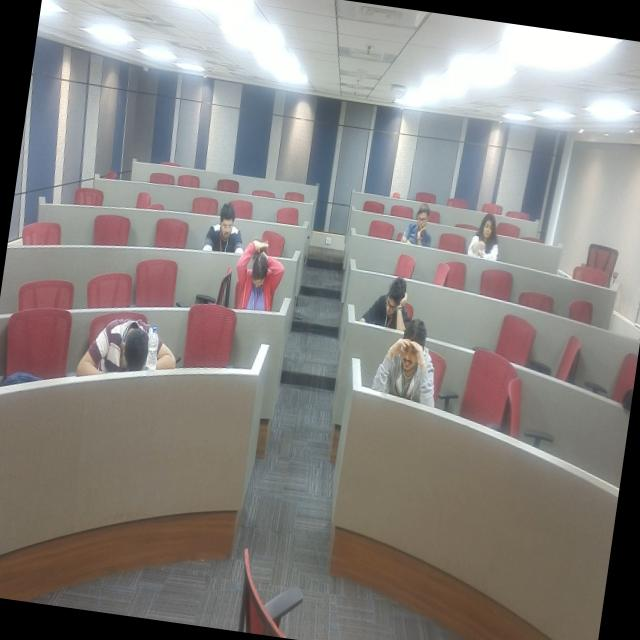non-cheating: (223, 230, 289, 327)
